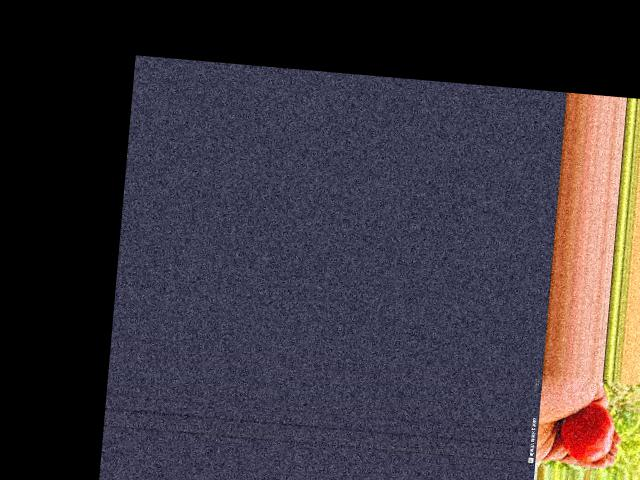tomato: (558, 400, 615, 463)
